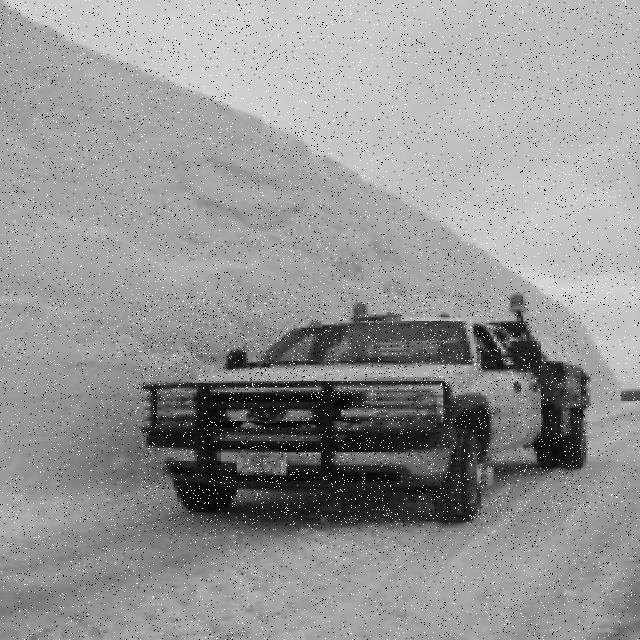Pickup- Utility: (137, 292, 589, 525)
